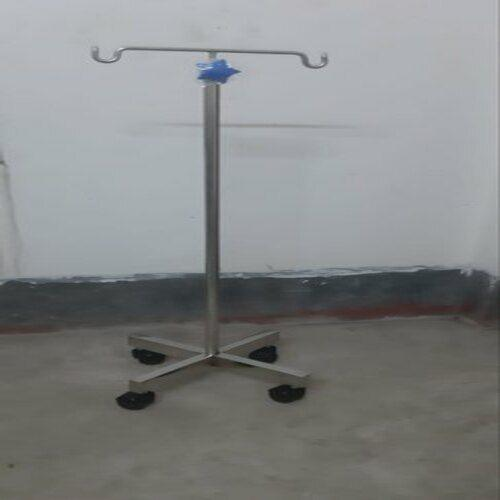Saline Stand: (89, 42, 329, 407)
